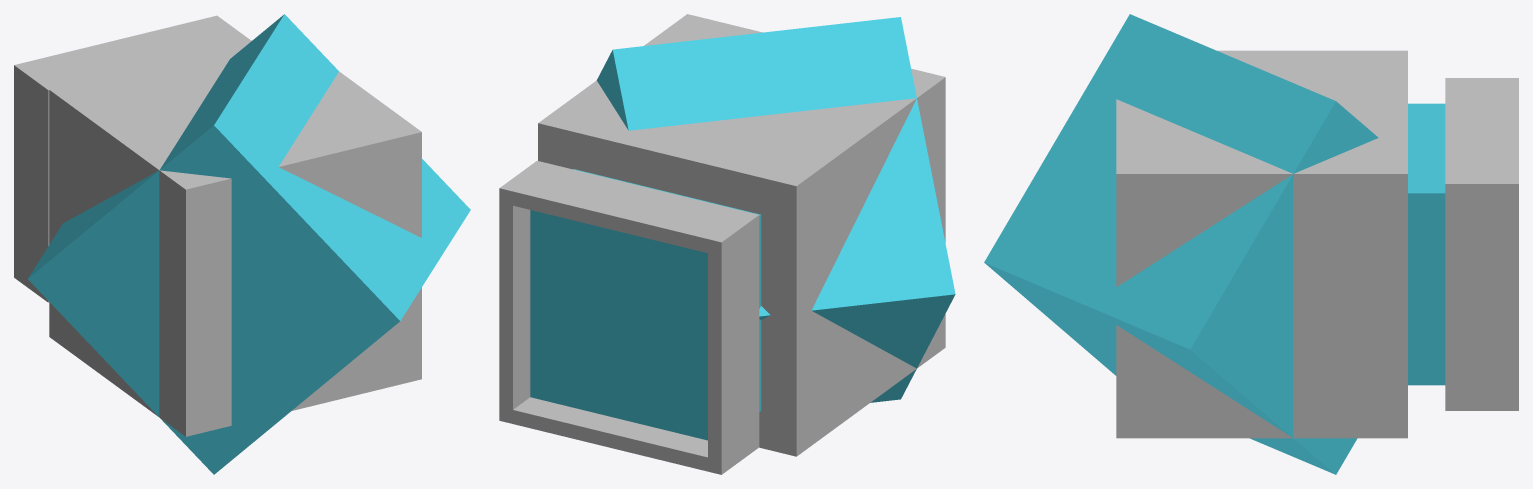
The model's file is LockProjectile.fbx.
3 views of the same model, side by side, from view 1: azimuth 30°, elevation 25°; view 2: azimuth 150°, elevation 25°; view 3: azimuth 270°, elevation 25° (orthographic). The views are drawn at different scales.
Parts seen in each view (by area): view 1: Cube.001, Cube; view 2: Cube, Cube.001; view 3: Cube, Cube.001.
Boxes of the visible parts, bbox=[...] form: Cube.001: bbox=[28, 14, 470, 474]; Cube: bbox=[14, 15, 421, 436]; Cube: bbox=[499, 14, 945, 474]; Cube.001: bbox=[596, 17, 955, 402]; Cube: bbox=[1116, 50, 1518, 438]; Cube.001: bbox=[984, 14, 1378, 474].
Bounding box in the file's own units: 341 × 283 × 367.
